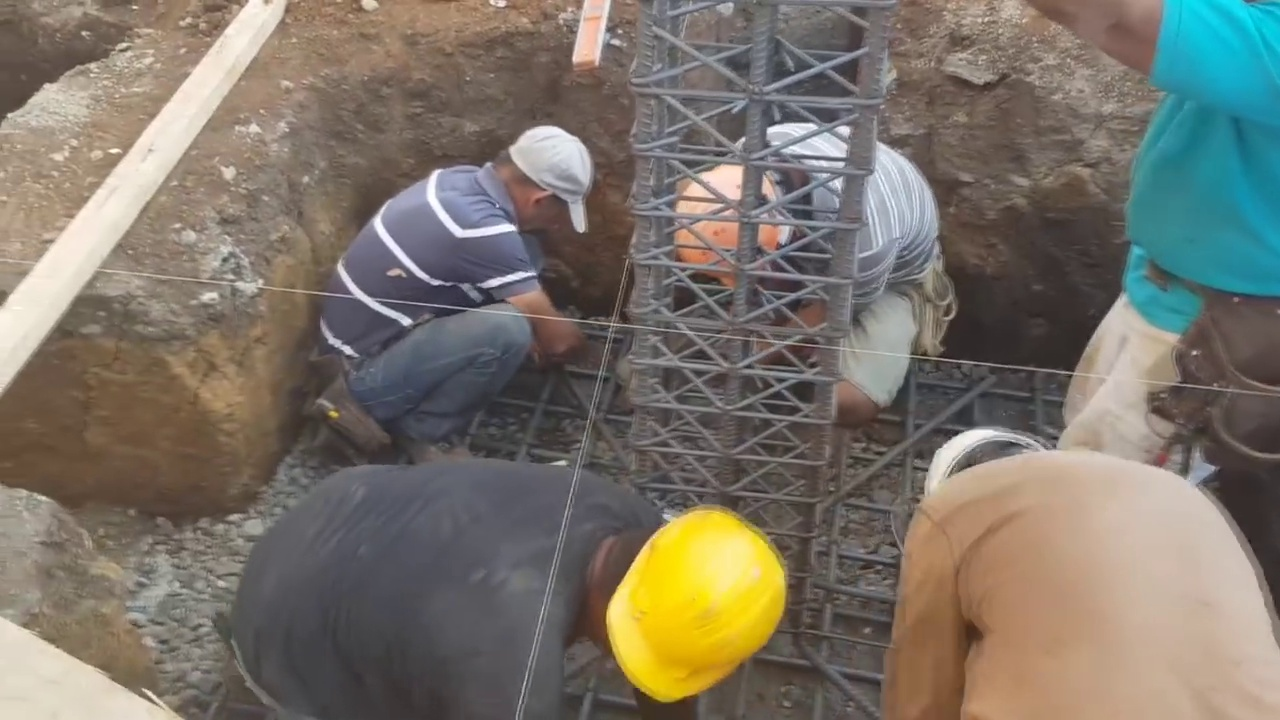helmet: (597, 511, 794, 695), (678, 161, 790, 288)
helmet-off: (490, 120, 597, 242)
helmet-on: (573, 497, 806, 712), (680, 144, 834, 284), (924, 429, 1052, 506)
person: (174, 470, 807, 720), (854, 425, 1280, 718), (1052, 0, 1274, 459), (335, 112, 602, 466), (670, 127, 948, 447)
